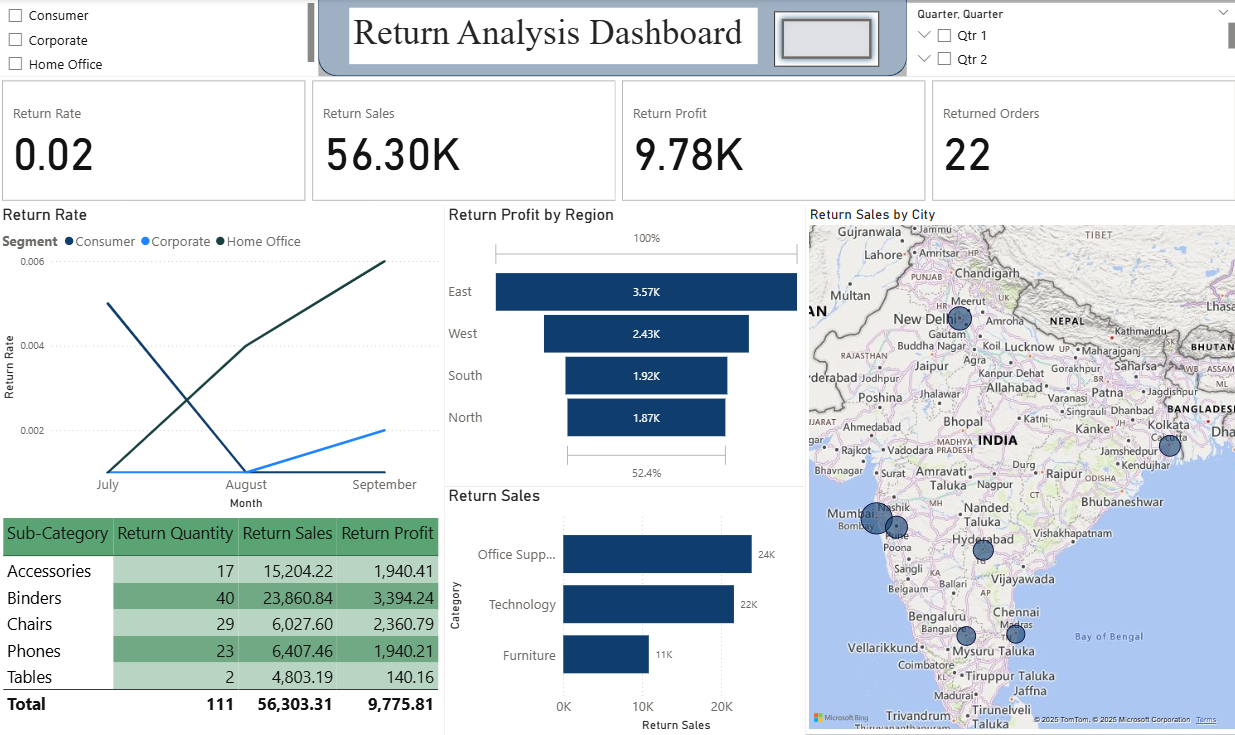

The page's visual inventory and layout, read from the dashboard file:
{"tool":"powerbi","page":{"name":"Page 3","canvas":[1500,900],"ordinal":2},"visuals":[{"type":"shape","box":[386.7,0,710.8,93.2],"z":0},{"type":"textbox","box":[150,233,300,300],"z":1000},{"type":"textbox","box":[423.8,10.6,493.1,67.9],"z":2000},{"type":"cardVisual","fields":{"Data":["Return_Data.Return Rate","Return_Data.Return Sales","Return_Data.Return Profit","Return_Data.Returned Orders"]},"box":[0,93.2,1499.5,155.9],"z":3000},{"type":"lineChart","title":"Return Rate ","fields":{"Category":["Order.OrderDate.Variation.Date Hierarchy.Month"],"Y":["Return_Data.Return Rate"],"Series":["Customer_Data.Segment"]},"box":[0,249.2,548.7,301.1],"z":4000},{"type":"barChart","title":"Return Sales ","fields":{"Category":["Order.Category"],"Y":["Return_Data.Return Sales"]},"box":[538,588.5,435.6,301.1],"z":5000},{"type":"map","fields":{"Category":["Customer_Data.City"],"Size":["Return_Data.Return Sales"]},"box":[973.7,249.2,525.8,637.4],"z":6000},{"type":"tableEx","fields":{"Values":["Order.Sub-Category","Return_Data.Return Quantity","Return_Data.Return Sales","Return_Data.Return Profit"]},"box":[0,588.5,538,311.8],"z":7000},{"type":"slicer","fields":{"Values":["Customer_Data.Segment"]},"box":[0,0,386.7,93.2],"z":8000},{"type":"slicer","fields":{"Values":["Order.OrderDate.Variation.Date Hierarchy.Quarter","Return_Data.ReturnDate.Variation.Date Hierarchy.Quarter"]},"box":[1126.5,4.6,371.4,88.7],"z":9000},{"type":"funnel","fields":{"Y":["Return_Data.Return Profit"],"Category":["Order.Region"]},"box":[549,249,425,301],"z":10000},{"type":"actionButton","box":[936.5,15.1,126.7,66.4],"z":10001}]}

Visuals, with their boxes on the page's 1500x900 design canvas (x1, y1, x2, y2). These are canvas units, not pixel positions in the 1235x735 screenshot, which may show the page scaled, cropped or inside an application window:
shape: 387:0:1098:93
textbox: 150:233:450:533
textbox: 424:11:917:78
cardVisual - Return_Data.Return Rate x Return_Data.Return Sales: 0:93:1500:249
"Return Rate " lineChart: 0:249:549:550
"Return Sales " barChart: 538:588:974:890
map - Customer_Data.City x Return_Data.Return Sales: 974:249:1500:887
tableEx - Order.Sub-Category x Return_Data.Return Quantity: 0:588:538:900
slicer - Customer_Data.Segment: 0:0:387:93
slicer - Order.OrderDate.Variation.Date Hierarchy.Quarter x Return_Data.ReturnDate.Variation.Date Hierarchy.Quarter: 1126:5:1498:93
funnel - Return_Data.Return Profit x Order.Region: 549:249:974:550
actionButton: 936:15:1063:82
